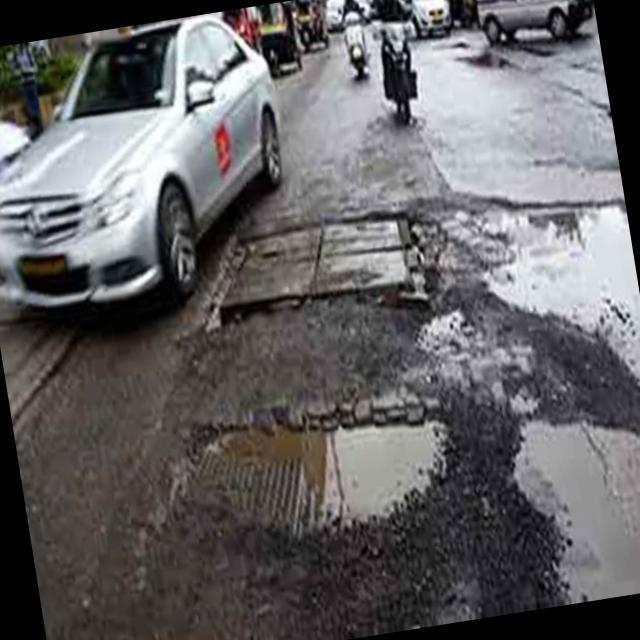Pothole: (427, 125, 640, 615), (175, 347, 484, 559), (394, 209, 456, 320)
